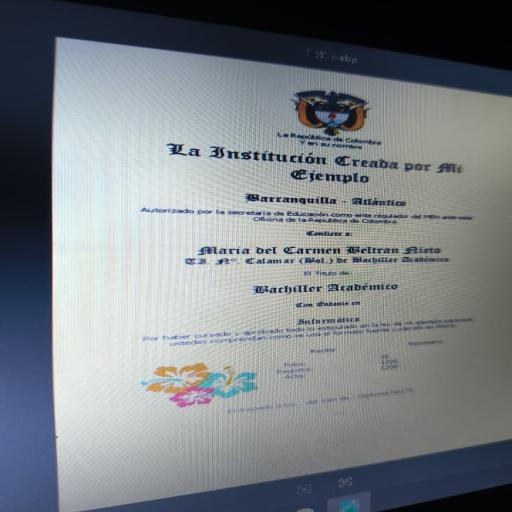bachillerato: (211, 279, 424, 304)
diploma: (59, 40, 510, 512)
escudo: (265, 80, 389, 144)
firma: (254, 349, 334, 389)
institucion: (142, 136, 481, 199)
nombre: (154, 243, 479, 273)
